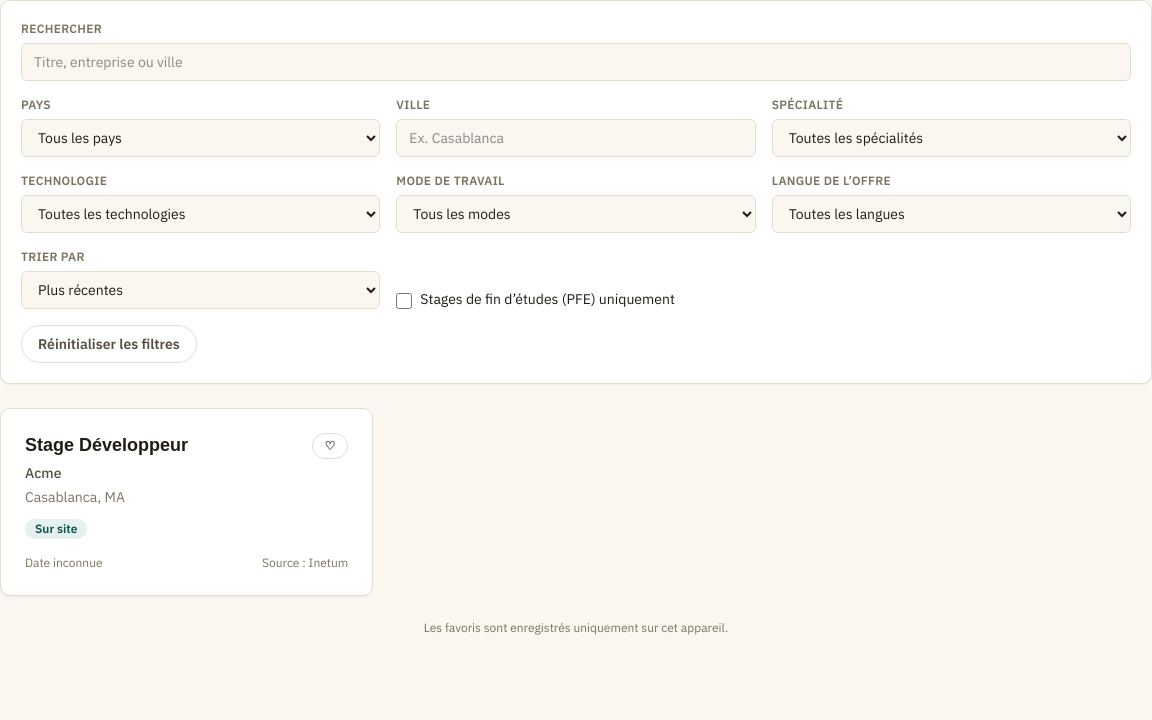
Test case: OffersSearchExperience › a stale, out-of-order response never overwrites a newer request's results (finding 7)
Select "Maroc" in the dropdown labelled "Pays" at x=201, y=138, box [21,119,380,157]
Wait 400 ms
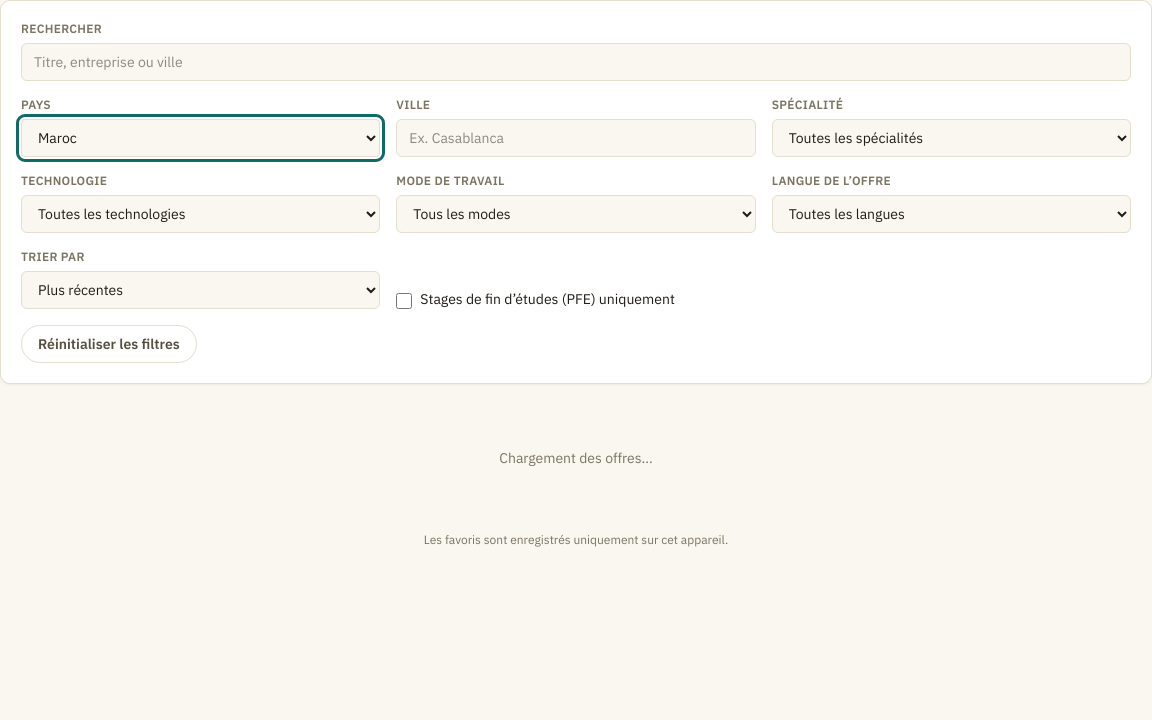
Select "France" in the dropdown labelled "Pays" at x=201, y=138, box [21,119,380,157]
Wait 400 ms
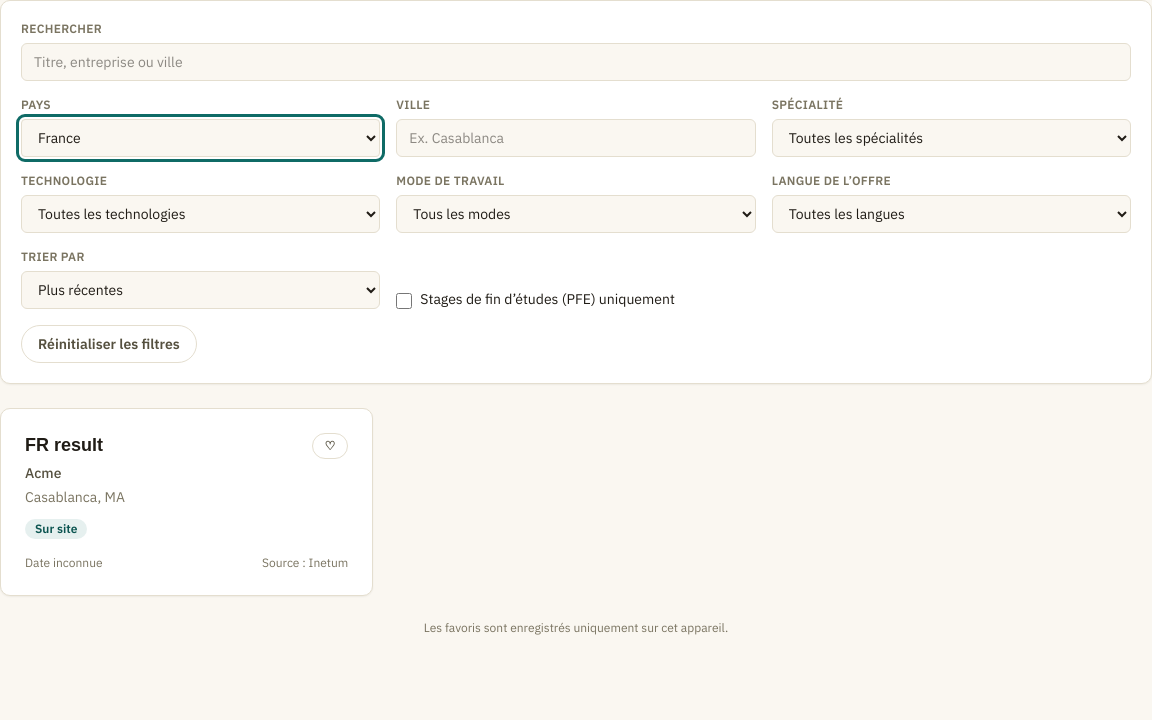
Result: the link "FR result" is shown at [25,435,103,455]
